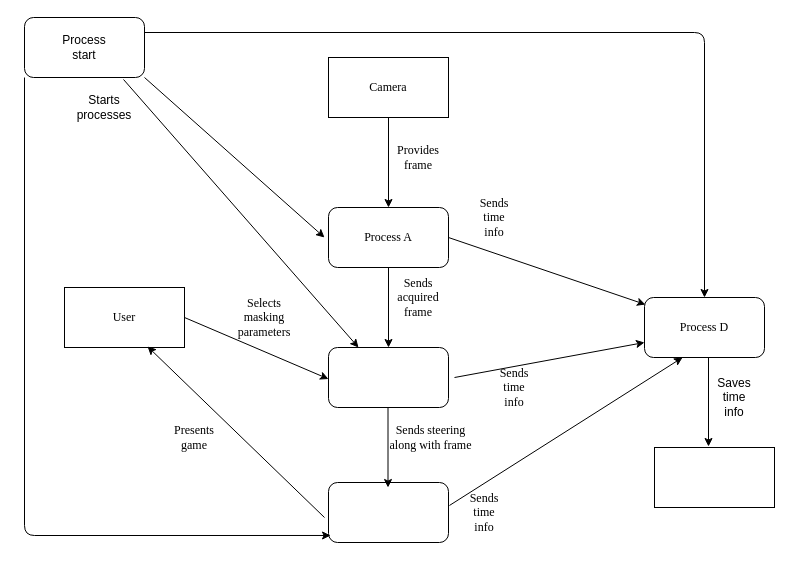
The diagram is 792 pixels wide and 561 high, and some of its shapes have lost their labels. The shapes that lost their labels are listed below. From the top down, each one's box as (x1, y1, x2, y2) in pixels, then its label:
(328, 346, 448, 408): Process B
(654, 446, 774, 508): File
(328, 482, 448, 542): Process C
